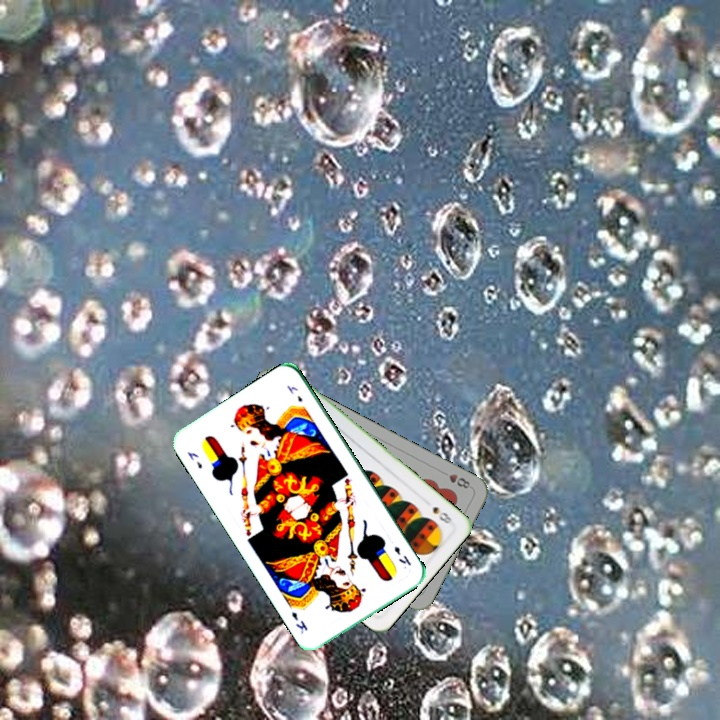EK: (390, 542, 413, 568), (183, 447, 205, 471)
H8: (437, 467, 473, 491)
S8: (428, 502, 455, 526)
